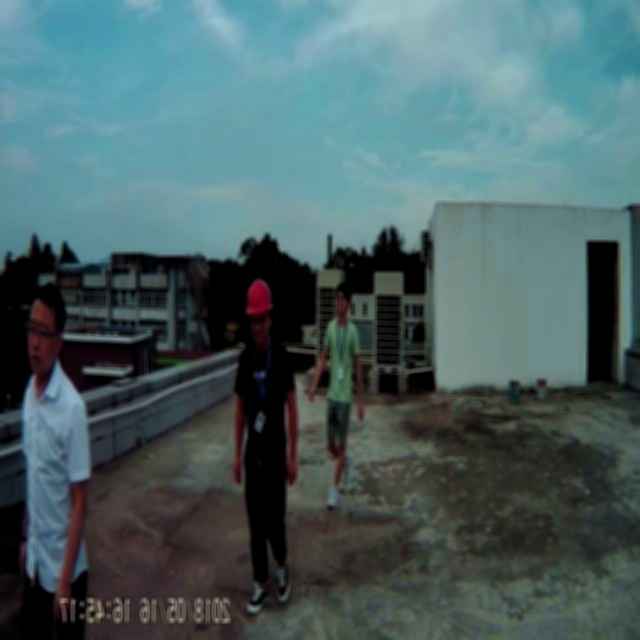Con_Casco: (246, 278, 271, 347)
Sin_Casco_Mascarrilla: (26, 279, 63, 377)
Sin_Chaleco: (325, 320, 360, 404)
